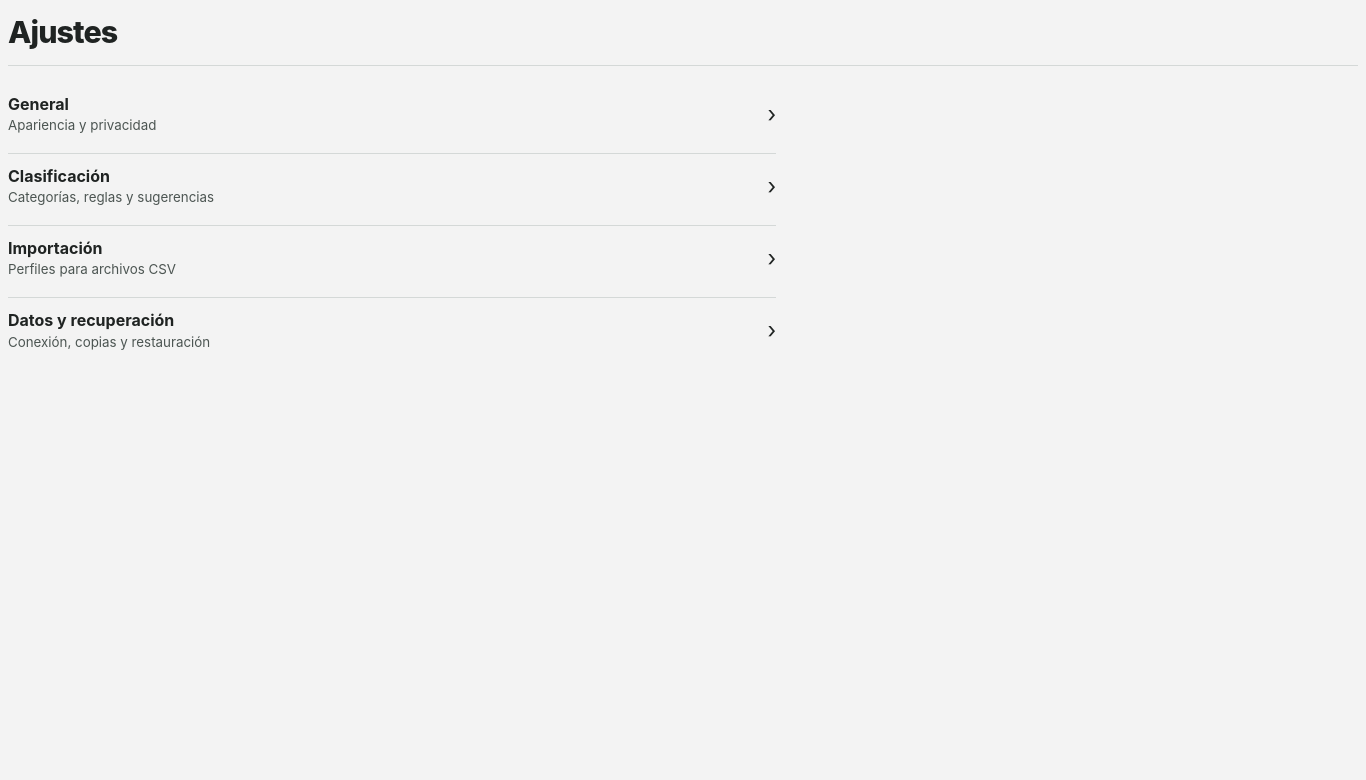
SettingsView › mantiene separada la fecha bancaria cuando el health HTTP falla y permite reintentar
Click the button "Datos y recuperación Conexión, copias y restauración ›" at (91, 320), box [8, 297, 776, 362]
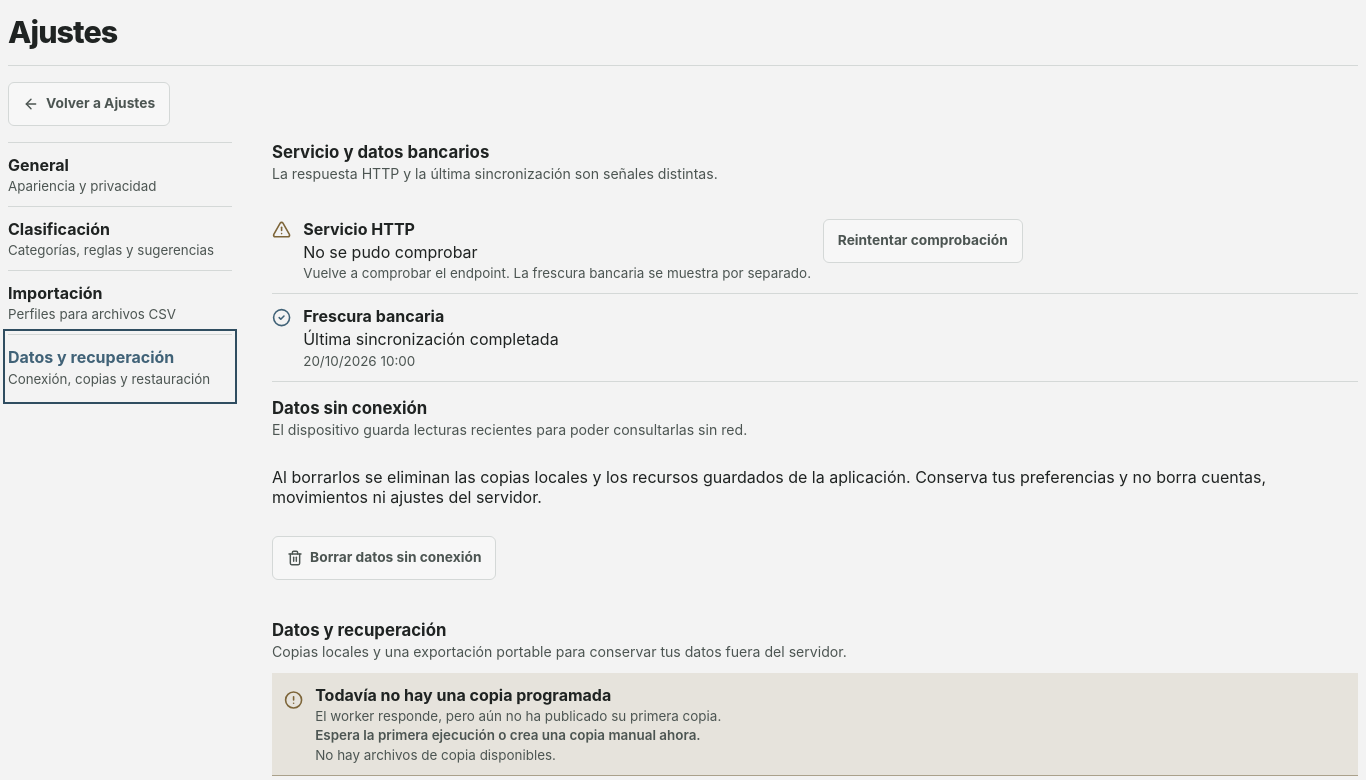
Now the text "No se pudo comprobar" is shown, box [303, 242, 478, 262]
Now the text "20/10/2026 10:00" is shown, box [303, 353, 415, 369]
Click the button "Reintentar comprobación" at (923, 241), box [823, 219, 1022, 263]
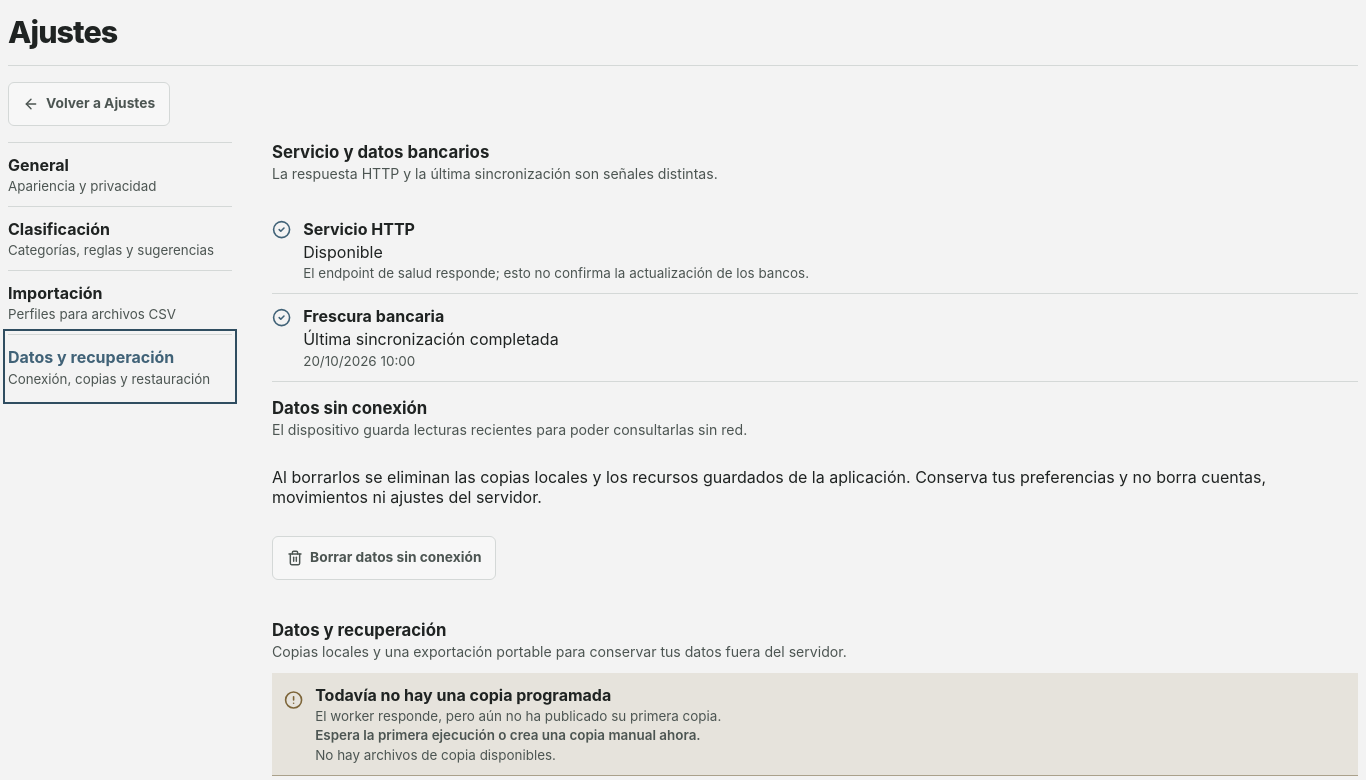
Now the text "Disponible" is shown, box [303, 242, 383, 262]
